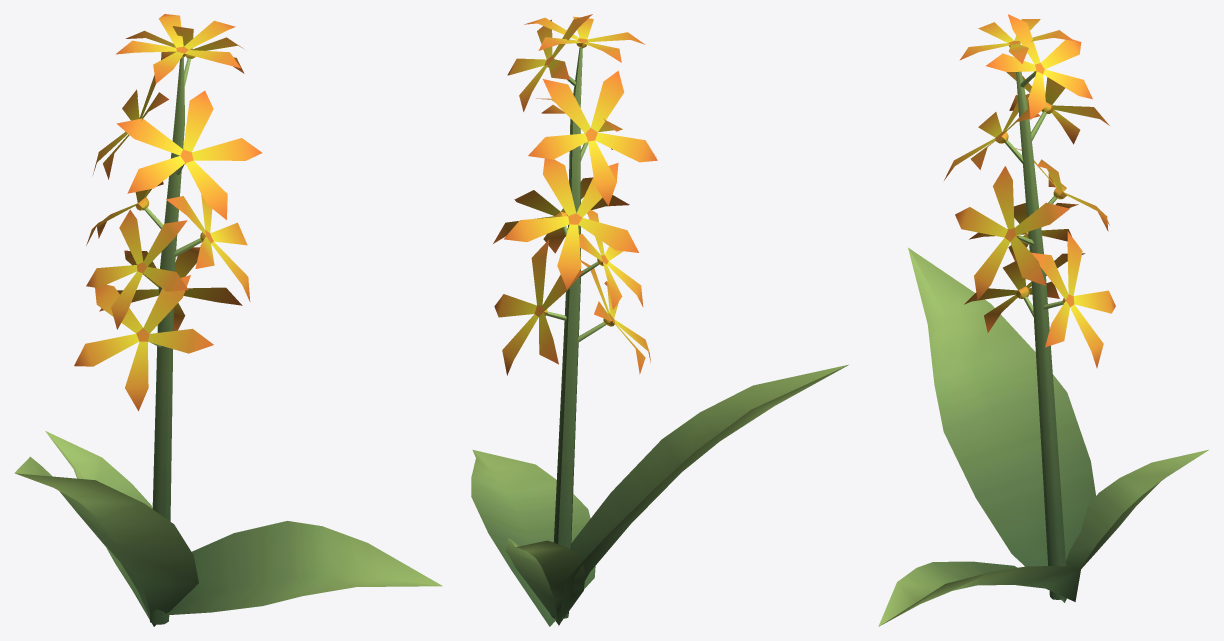
File: YellowFlower.gltf
The picture shows the model from 3 angles, left to right: view 1: azimuth 30°, elevation 25°; view 2: azimuth 150°, elevation 25°; view 3: azimuth 270°, elevation 25°; orthographic projection. The views are drawn at different scales.
Visible parts, largest first — view 1: default23_Material_0; view 2: default23_Material_0; view 3: default23_Material_0.
Boxes of the visible parts, left/top/right/bottom form: default23_Material_0: left=14, top=14, right=442, bottom=626; default23_Material_0: left=471, top=14, right=848, bottom=626; default23_Material_0: left=878, top=14, right=1208, bottom=626.
Size of the model in its own units: 1.86 by 2.68 by 1.37.
Materials: 1 (1 with a texture image).
